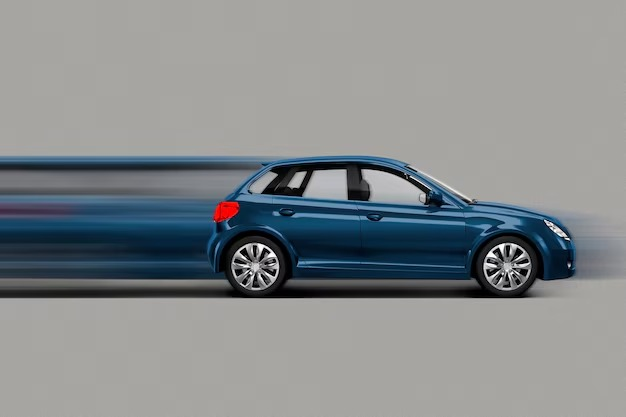car: (209, 155, 571, 300)
